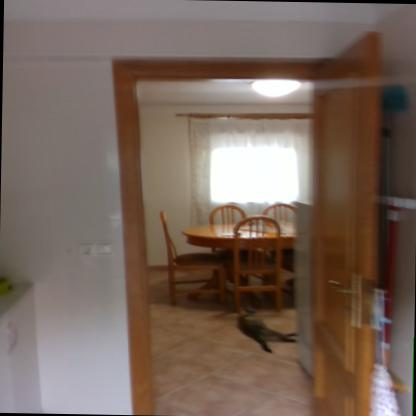open: (110, 22, 383, 416)
